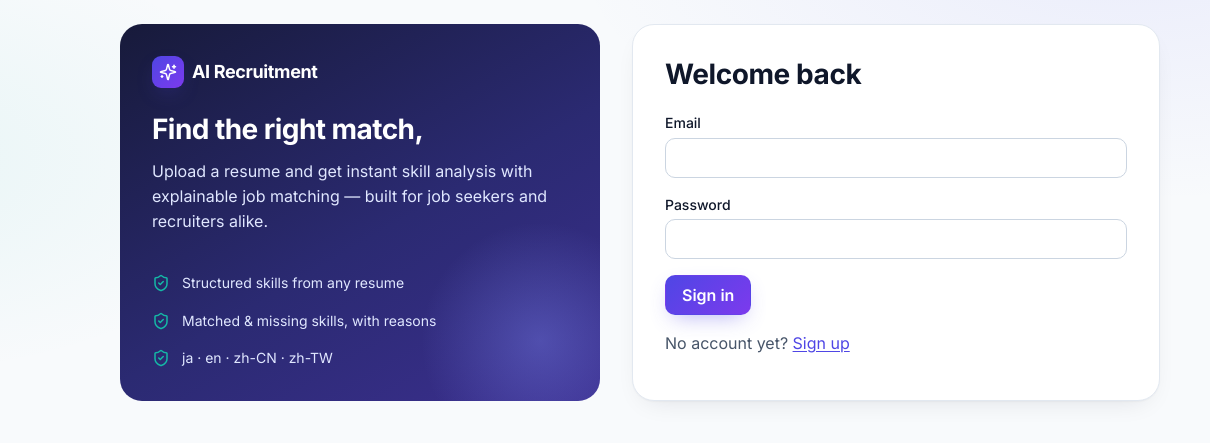
Test: Login form + error state (FR-01) › shows a localized error when credentials are invalid
The image size is (1210, 443).
Type "a@b.co" into the field labelled "Email".
click(896, 158); type("a@b.co")  # box [665, 138, 1127, 178]
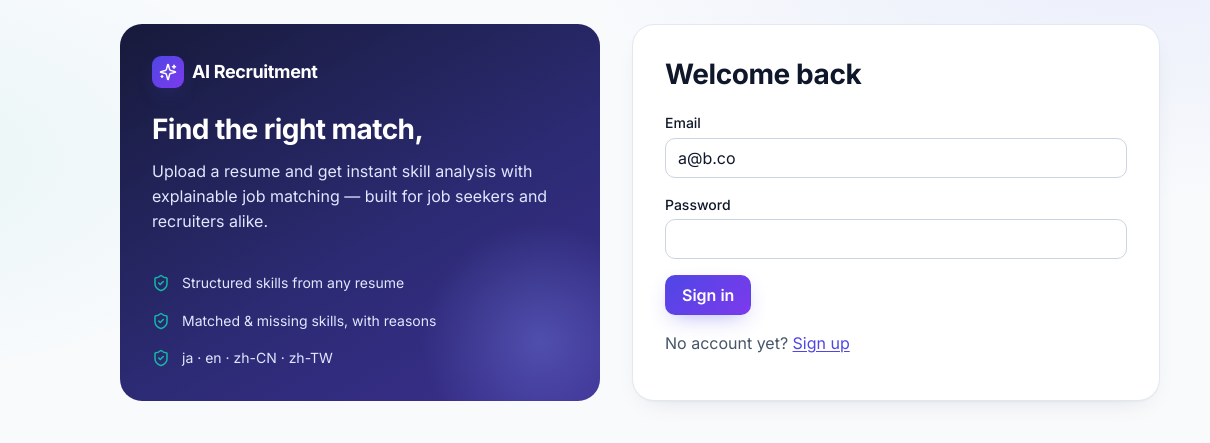
Type "wrongpass1" into the password field labelled "Password".
click(896, 239); type("wrongpass1")  # box [665, 219, 1127, 259]
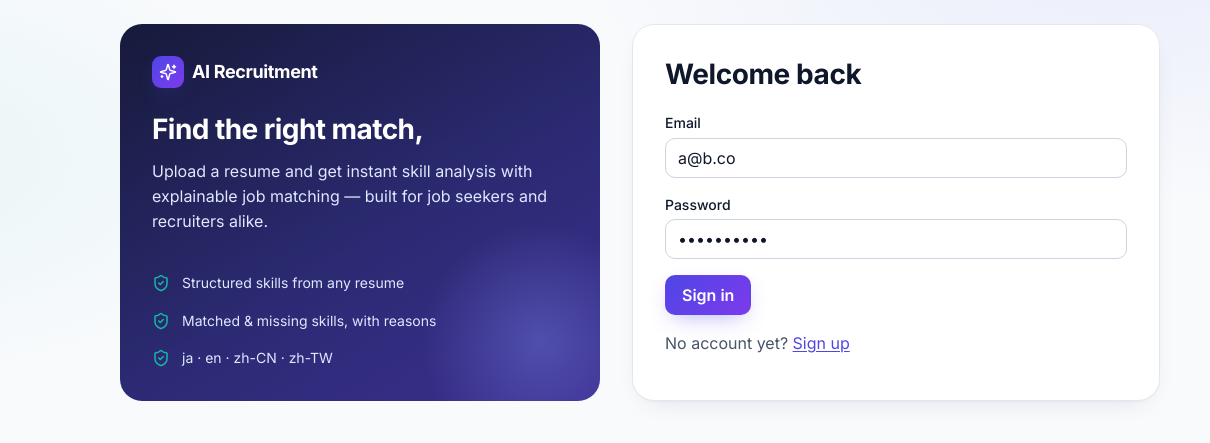
Click the button "Sign in".
click(708, 295)  # box [665, 275, 751, 315]
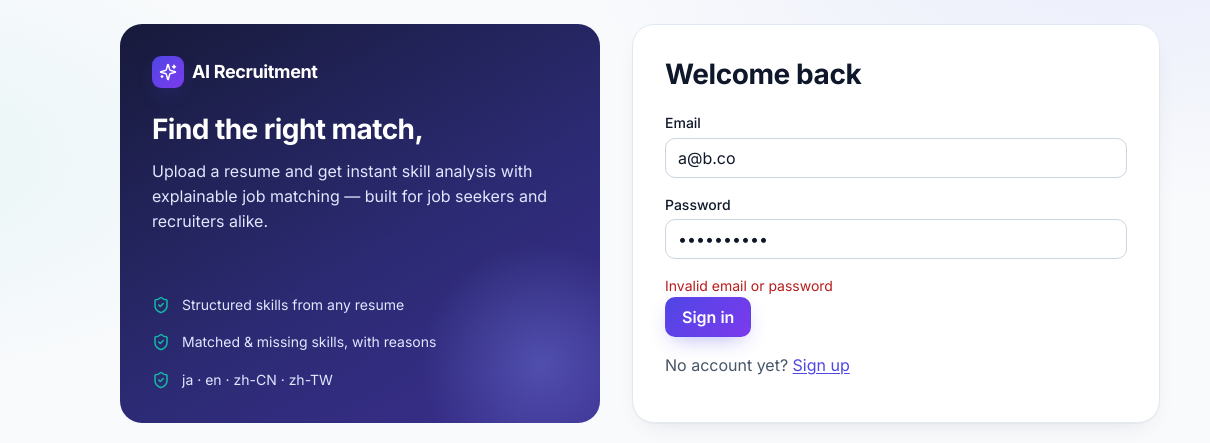
Now the message reads "Invalid email or password", box [665, 277, 833, 294]
